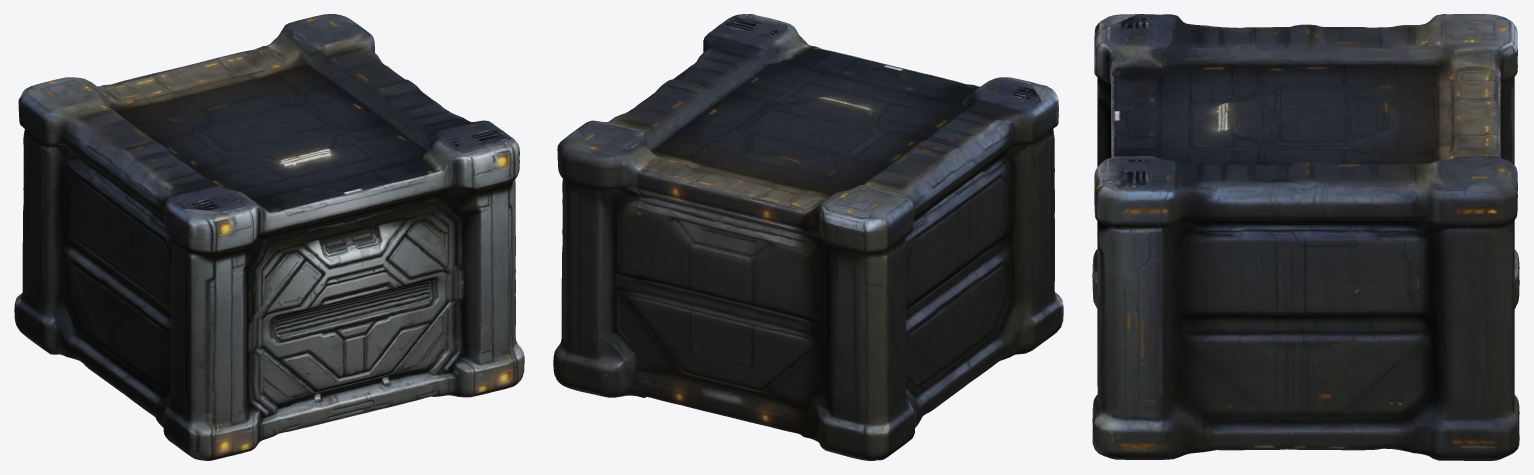
File: Futuristic Crate.glb
3 renders of one model, left to right at view 1: azimuth 30°, elevation 25°; view 2: azimuth 150°, elevation 25°; view 3: azimuth 270°, elevation 25°, orthographic. The views are drawn at different scales.
Size of the model in its own units: 2 by 1.4 by 1.98.
Materials: 1 (1 with a texture image).
